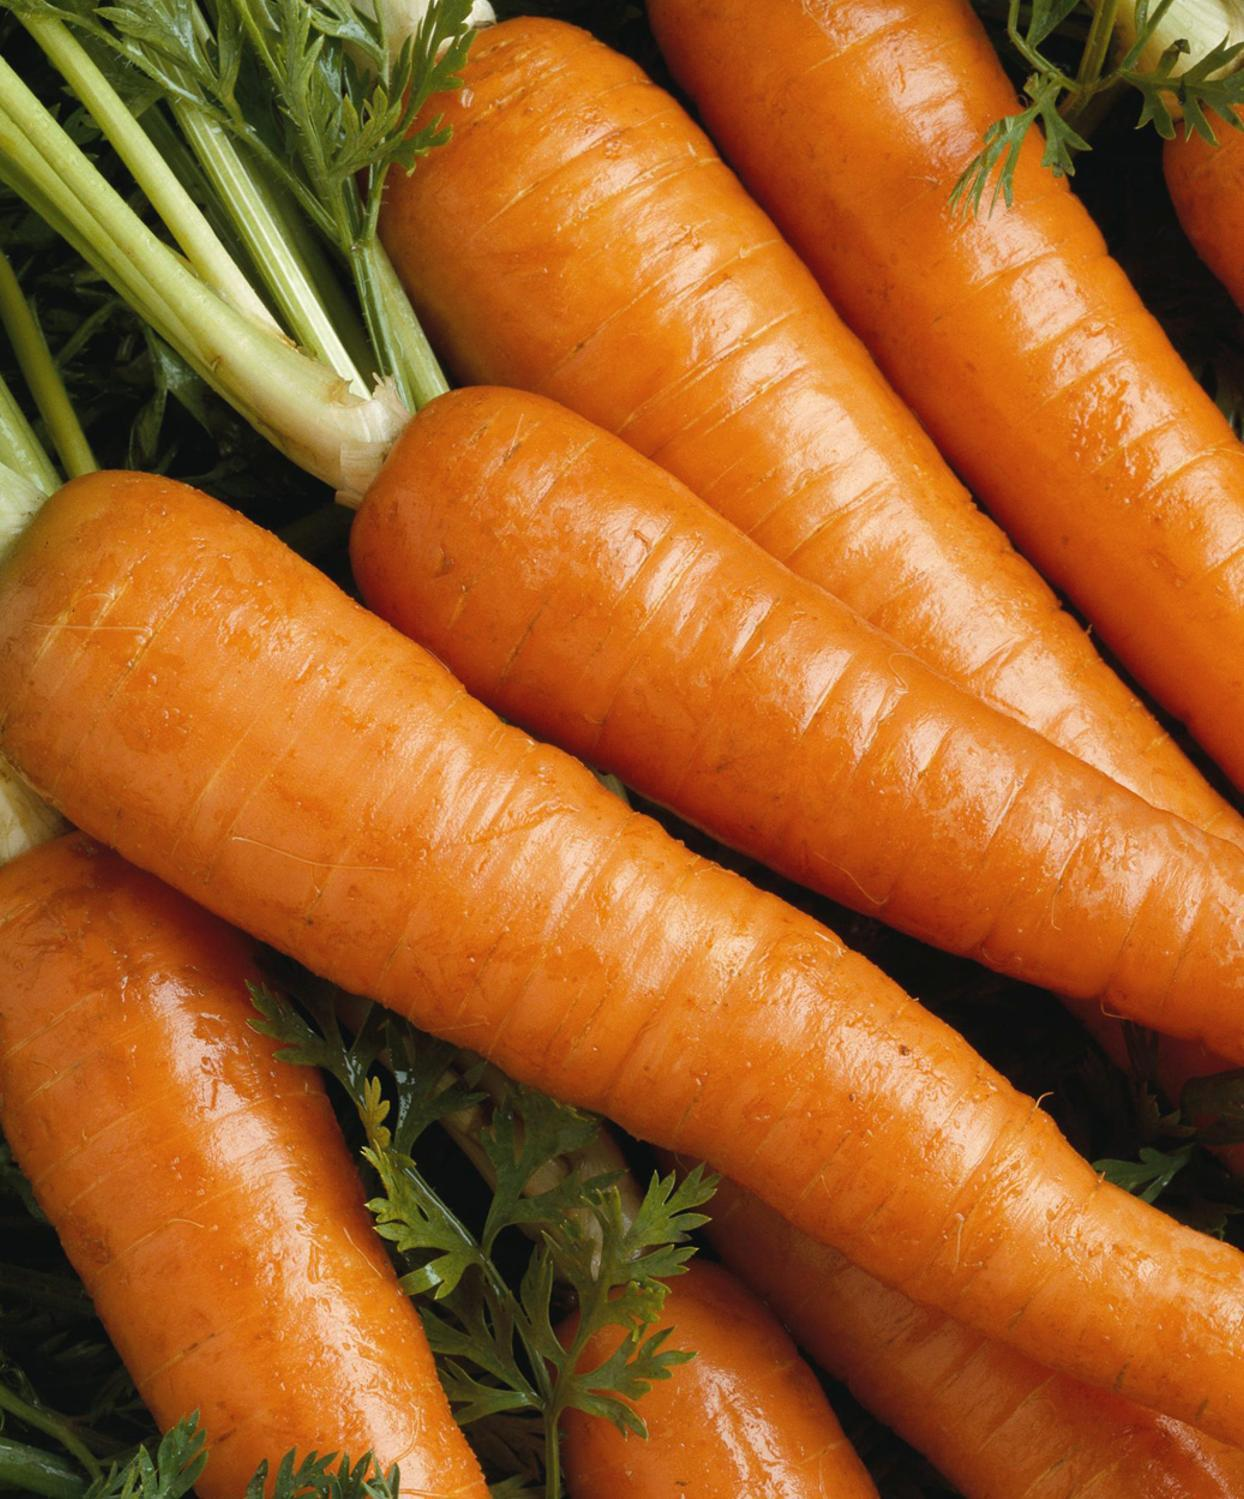carrot: (2, 0, 1244, 1499), (16, 503, 1244, 1383)
